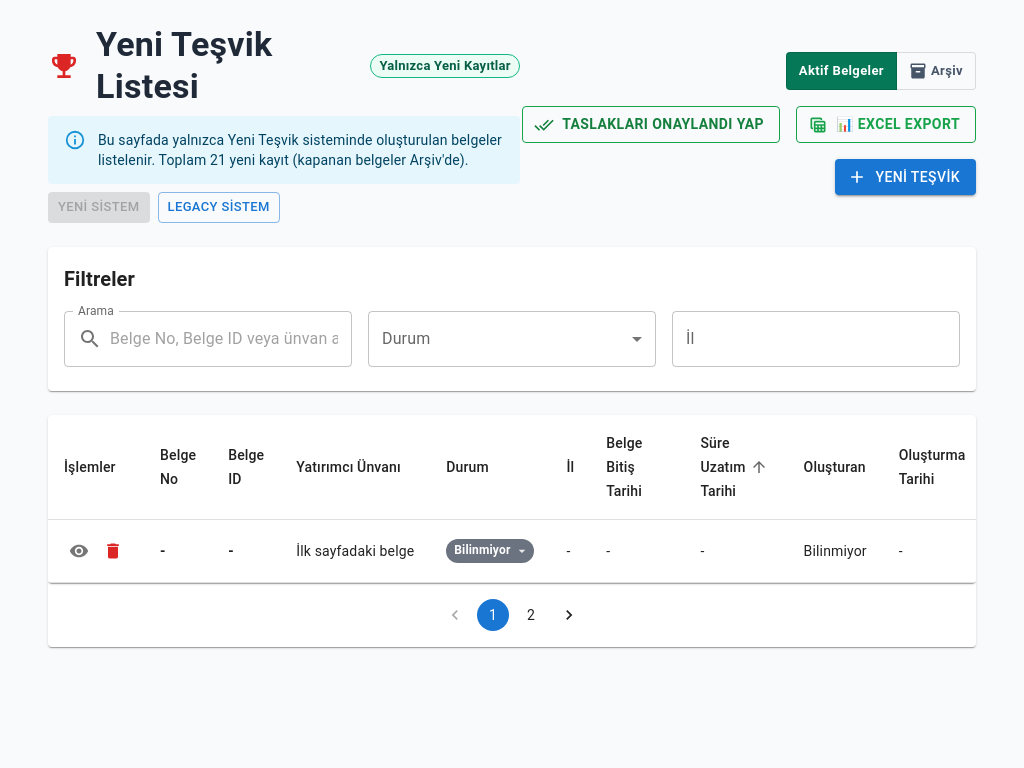
it: son sayfadaki tek belge silinince önceki dolu sayfa ve toplam yüklenir
Click the button named "go to page 2" at [531, 615], box [515,599,547,631]
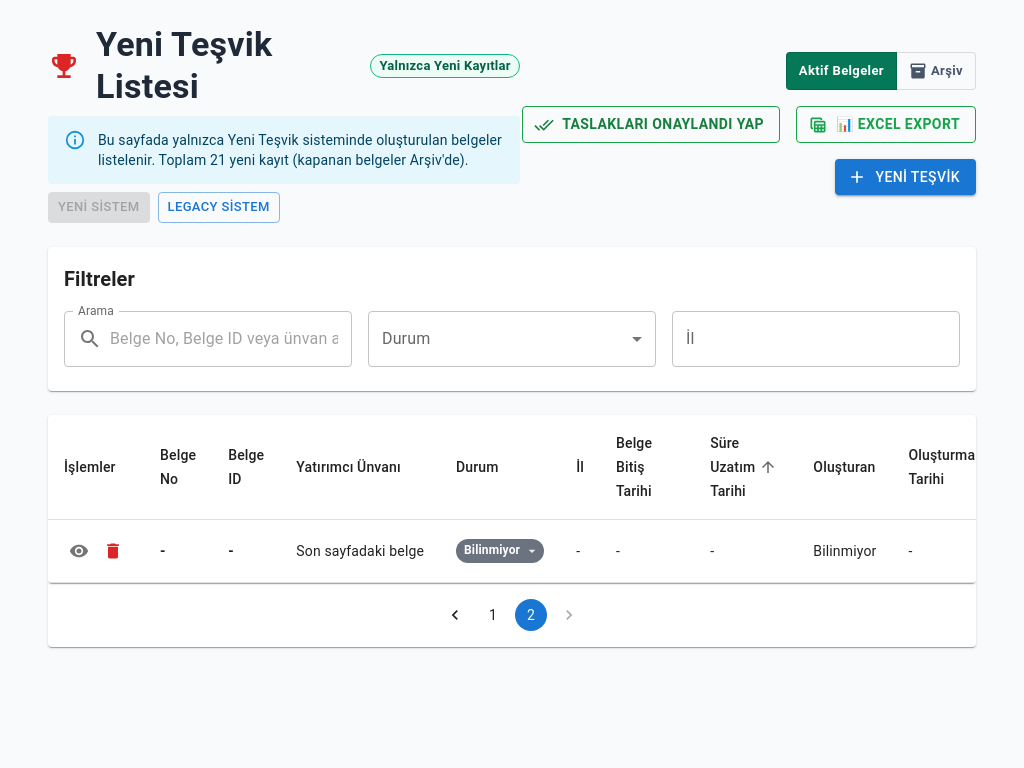
Click the button named "Sil" at [113, 551], box [98,536,128,566]
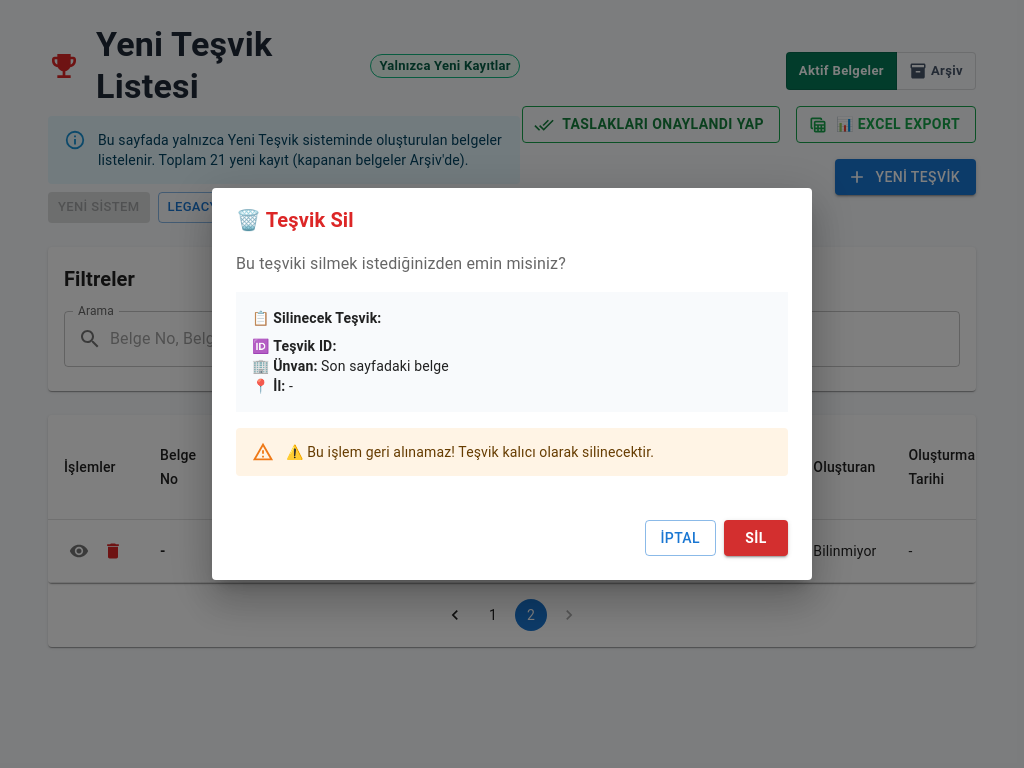
Click the button "Sil" at [756, 538], box [724,520,788,556]
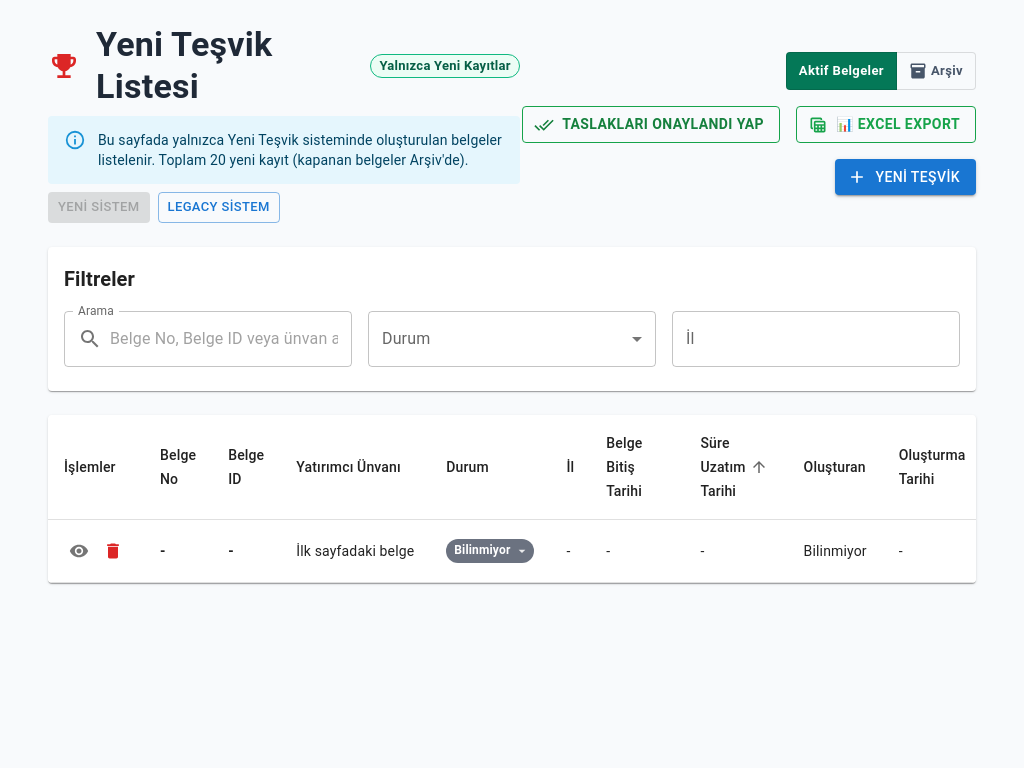
Expected: the text "İlk sayfadaki belge" is shown, [296,541,414,561]
Expected: the text "Toplam 20 yeni kayıt" is shown, [159,152,469,168]
